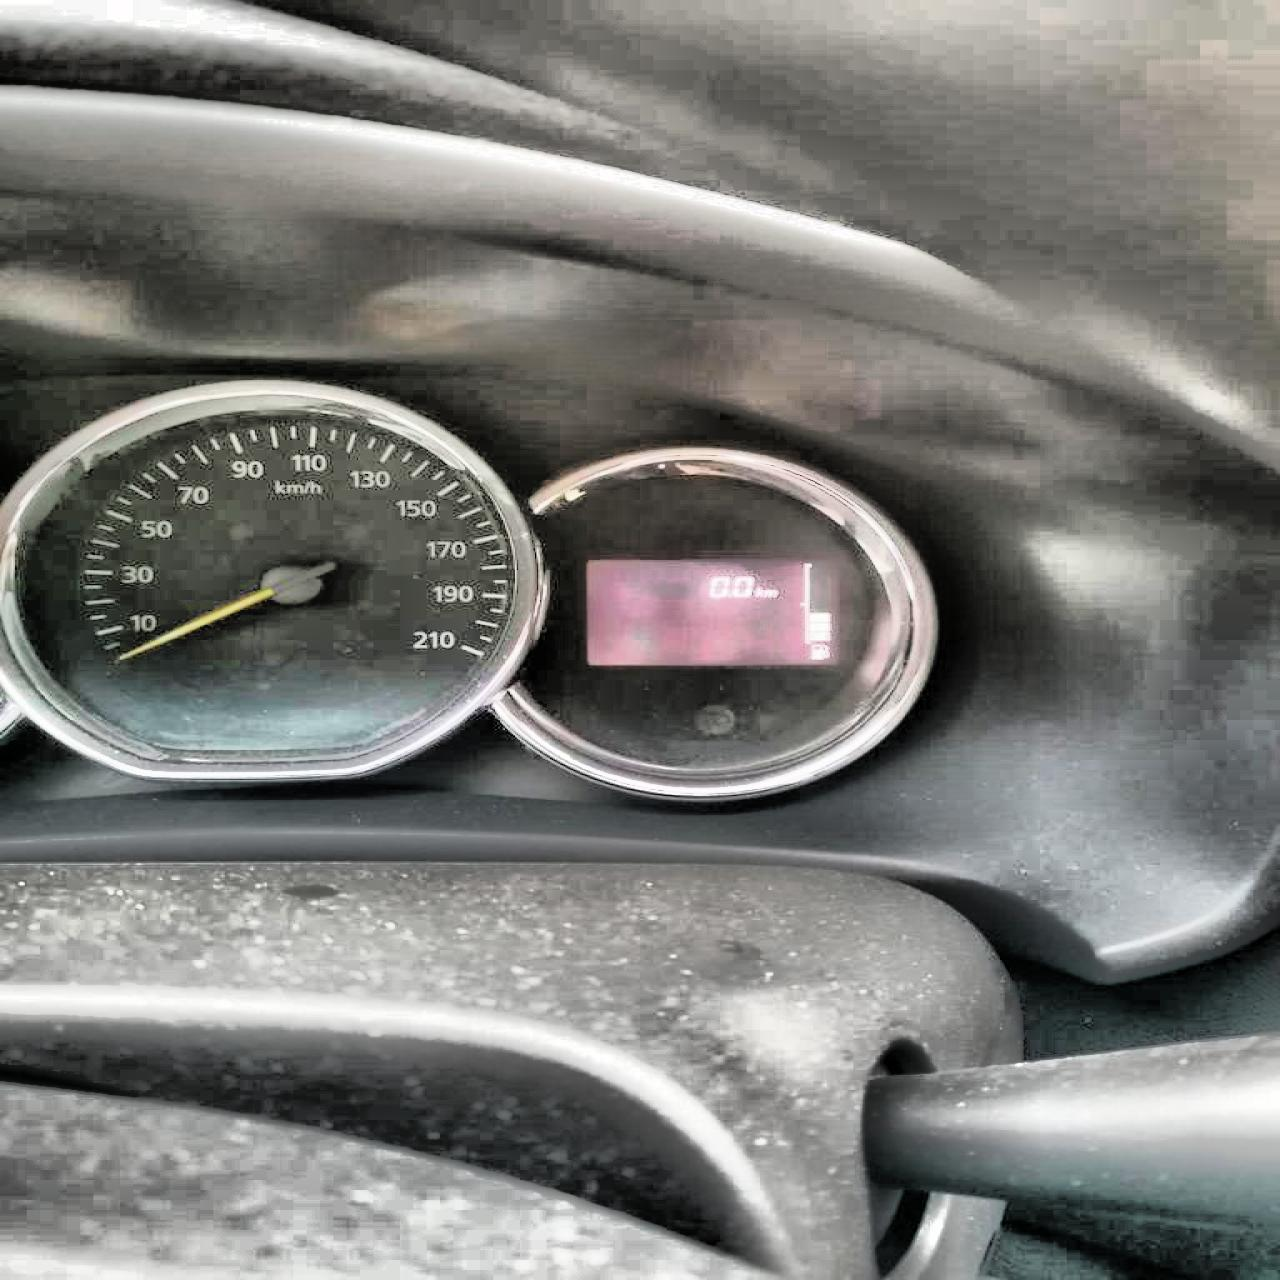-: (726, 592, 731, 600)
0: (706, 573, 727, 597), (731, 573, 750, 597)
X: (763, 587, 777, 598), (755, 585, 763, 599)
odometer: (581, 557, 842, 669)
